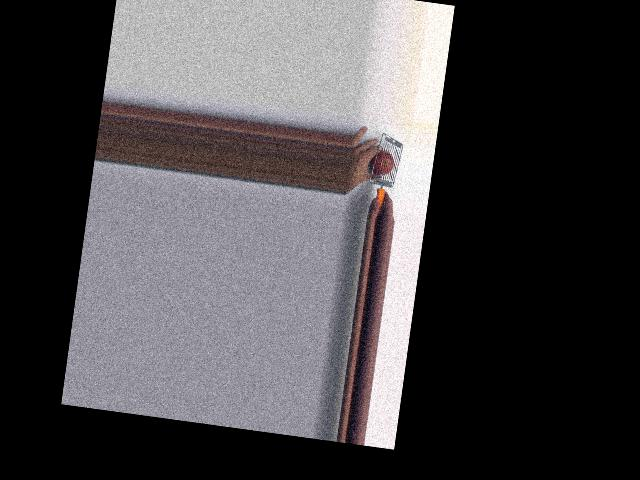tomato: (369, 150, 394, 177)
